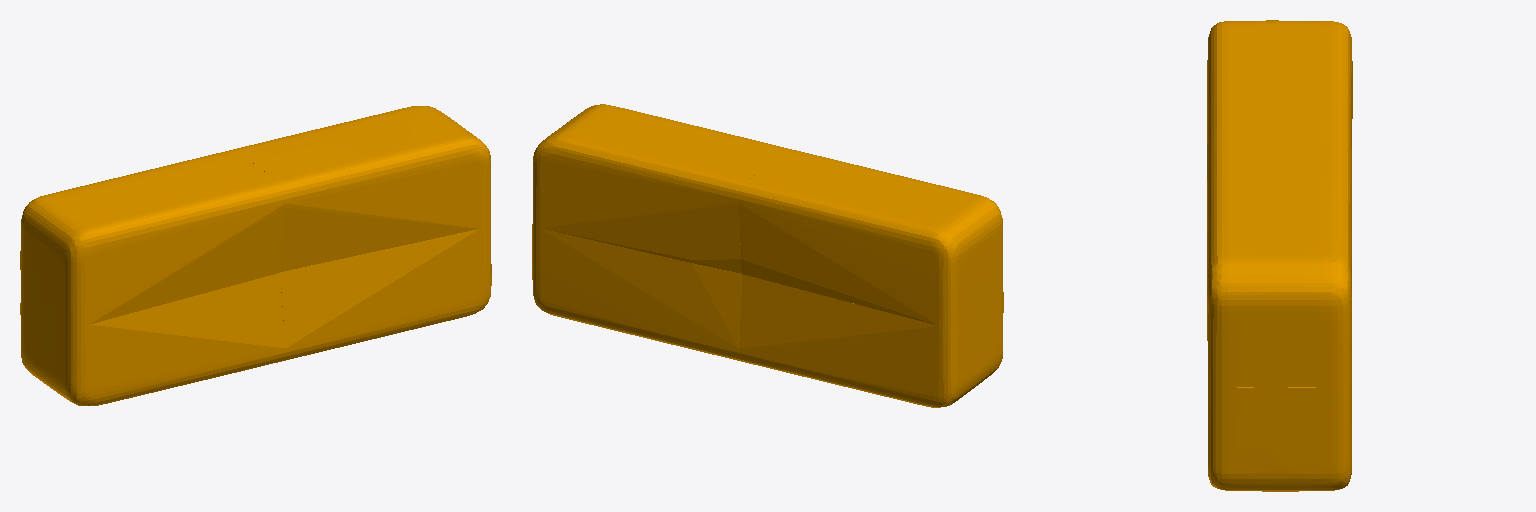
The robot description file, URDF, robot "flat_eraser":
<?xml version="1.0"?>
<robot name="flat_eraser">
  <link name="flat_eraser">
    <visual>
      <origin xyz="0 0 0" rpy="0 0 0"/>
      <geometry>
        <mesh filename="flat_eraser.obj" scale="1 1 1"/>
      </geometry>
    </visual>
    <collision>
      <origin xyz="0 0 0" rpy="0 0 0"/>
      <geometry>
        <mesh filename="flat_eraser.obj" scale="1 1 1"/>
      </geometry>
    </collision>
    <inertial>
      <density value="400.0"/>
    </inertial>
  </link>
</robot>

--- What the picture shows (computed from the rendered views, not written in the file) ---
The picture shows the robot from 3 angles, left to right: view 1: azimuth 30°, elevation 25°; view 2: azimuth 150°, elevation 25°; view 3: azimuth 270°, elevation 25°; orthographic projection.
Robot: flat_eraser — 1 links, 0 joints (none); root link flat_eraser; default pose: all joints at 0.
Links seen in each view (by area): view 1: flat_eraser; view 2: flat_eraser; view 3: flat_eraser.
Boxes of the visible links, <box> form: flat_eraser: <box>20,106,491,405</box>; flat_eraser: <box>532,104,1003,407</box>; flat_eraser: <box>1207,20,1352,491</box>.
Size in the robot's own frame: 0.1264 by 0.0295 by 0.051 metres.
1 mesh visuals loaded from 1 distinct referenced files (1 OBJ).
